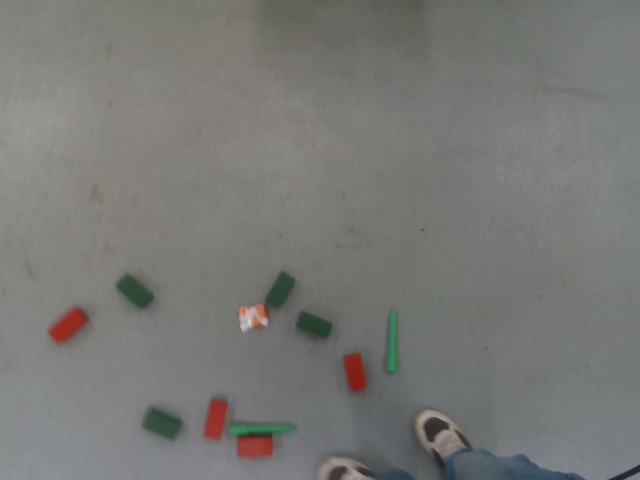Probe: (383, 306, 401, 376), (225, 420, 298, 436)
